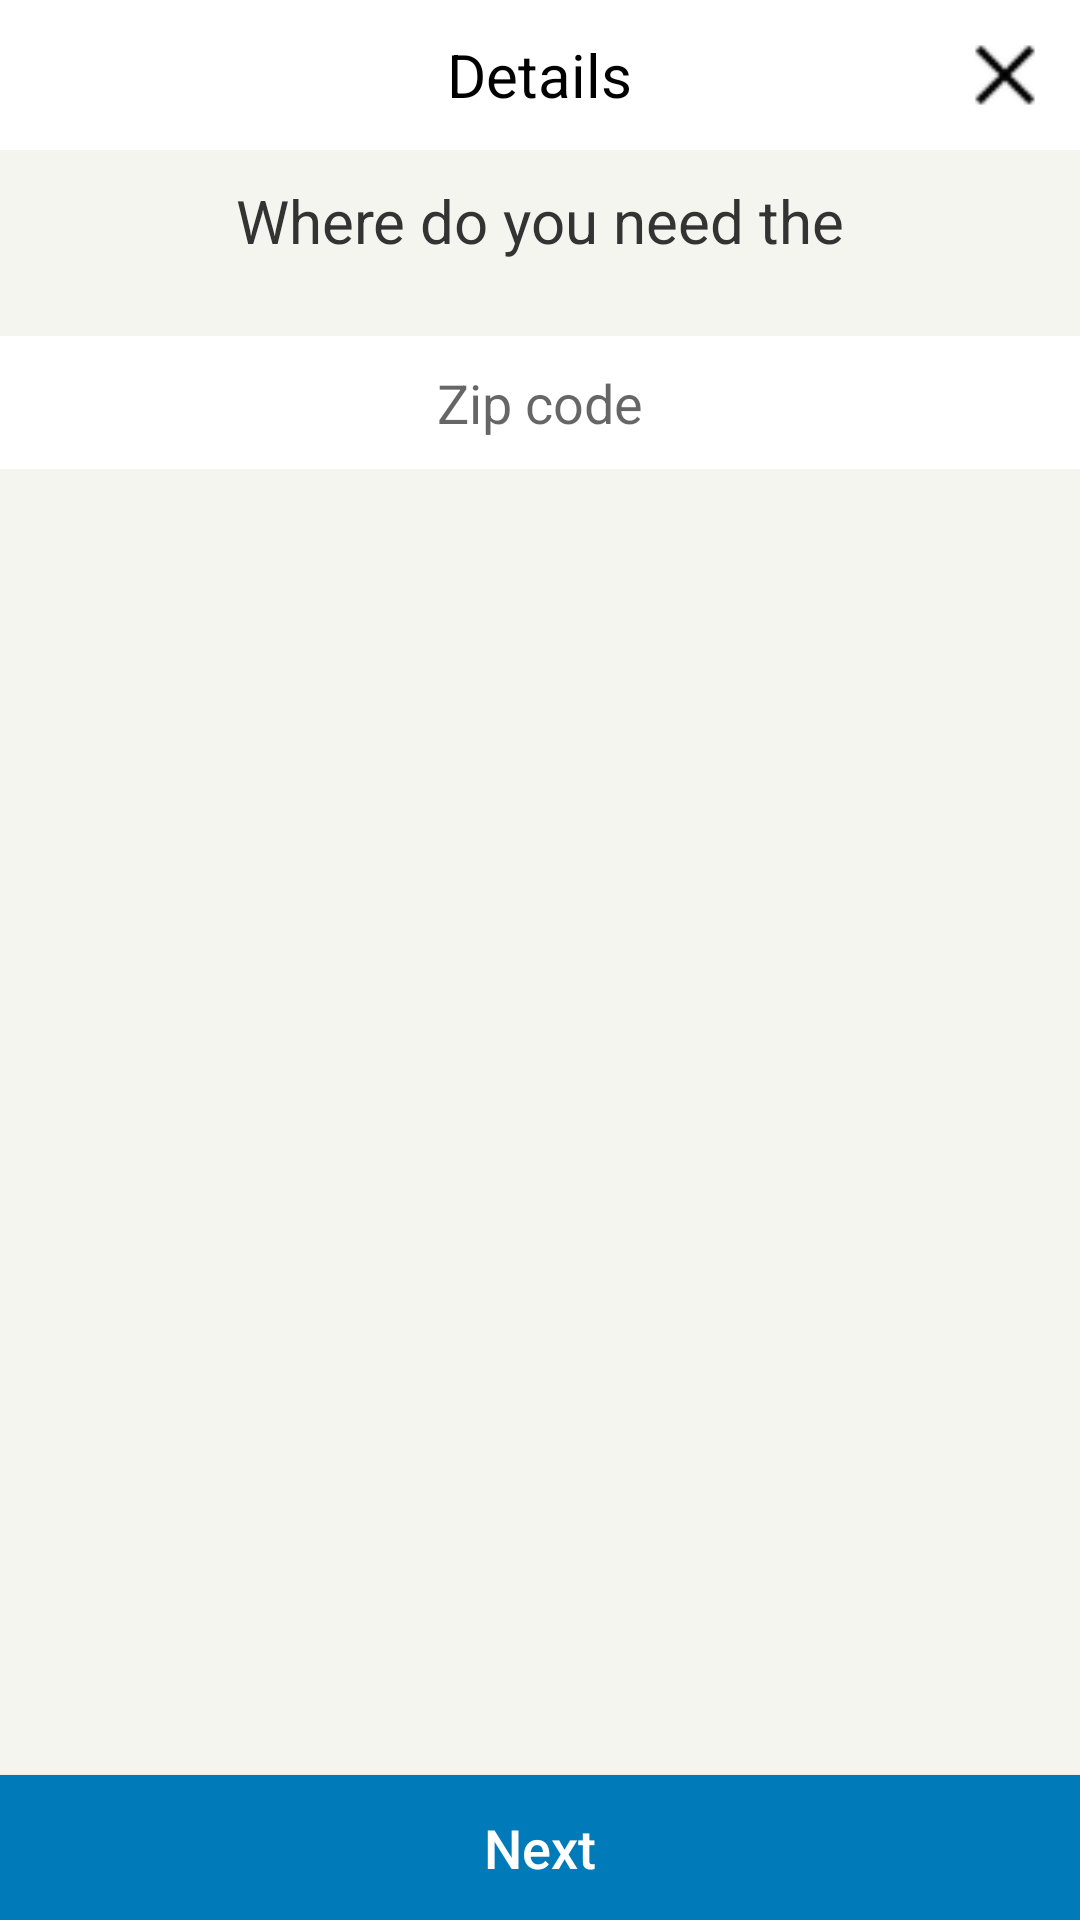

Icon click points for this 1080×1920 phone screenshot, format point (x, y):
close: point (1005, 75)
